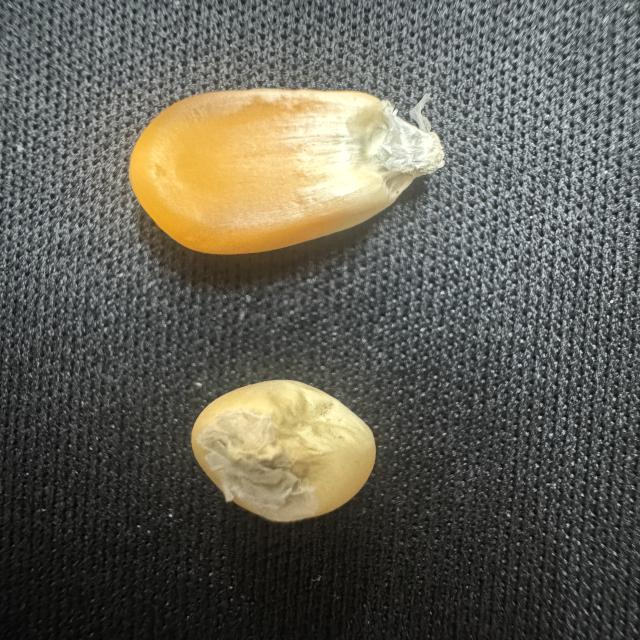Bad-Seed: (182, 372, 382, 527)
Good-Seed: (119, 81, 460, 262)
